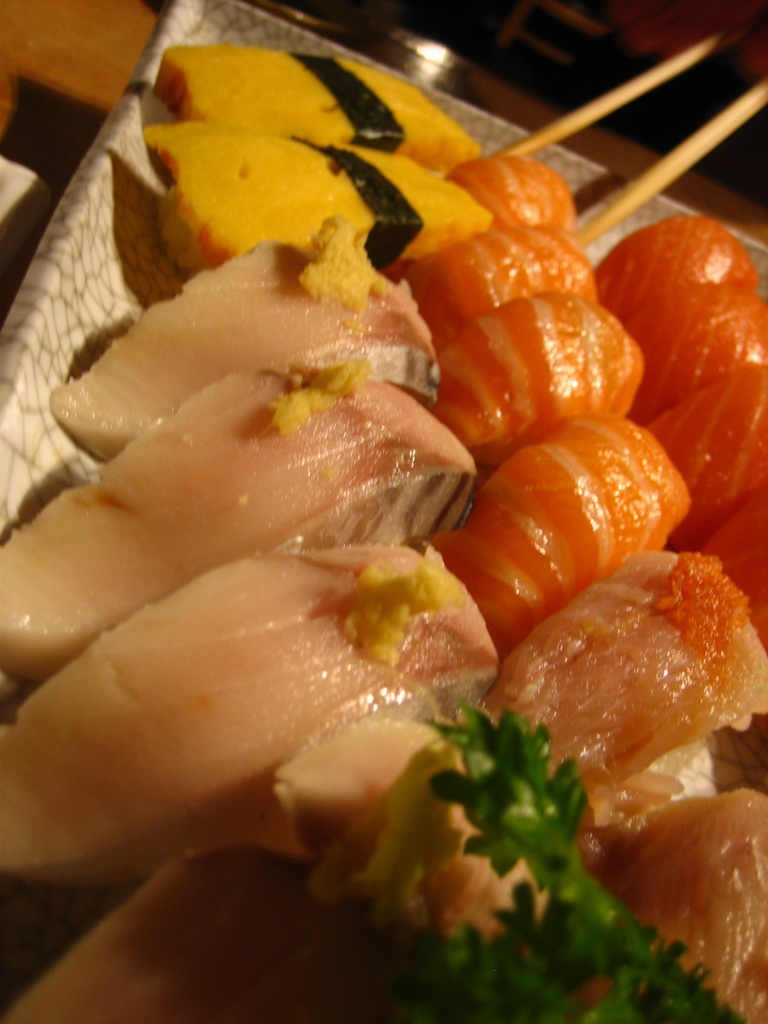sushi: (8, 8, 768, 1024)
